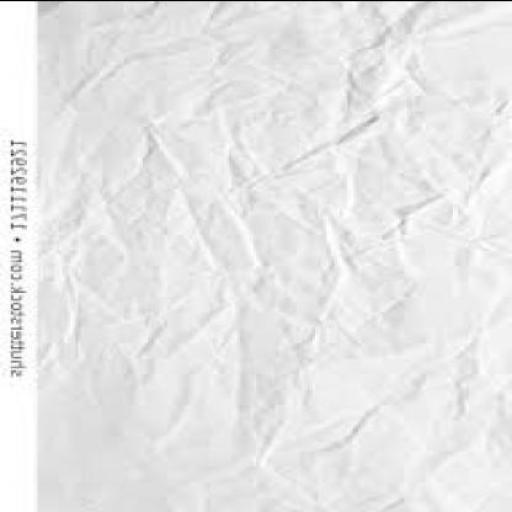paper: (39, 0, 512, 511)
